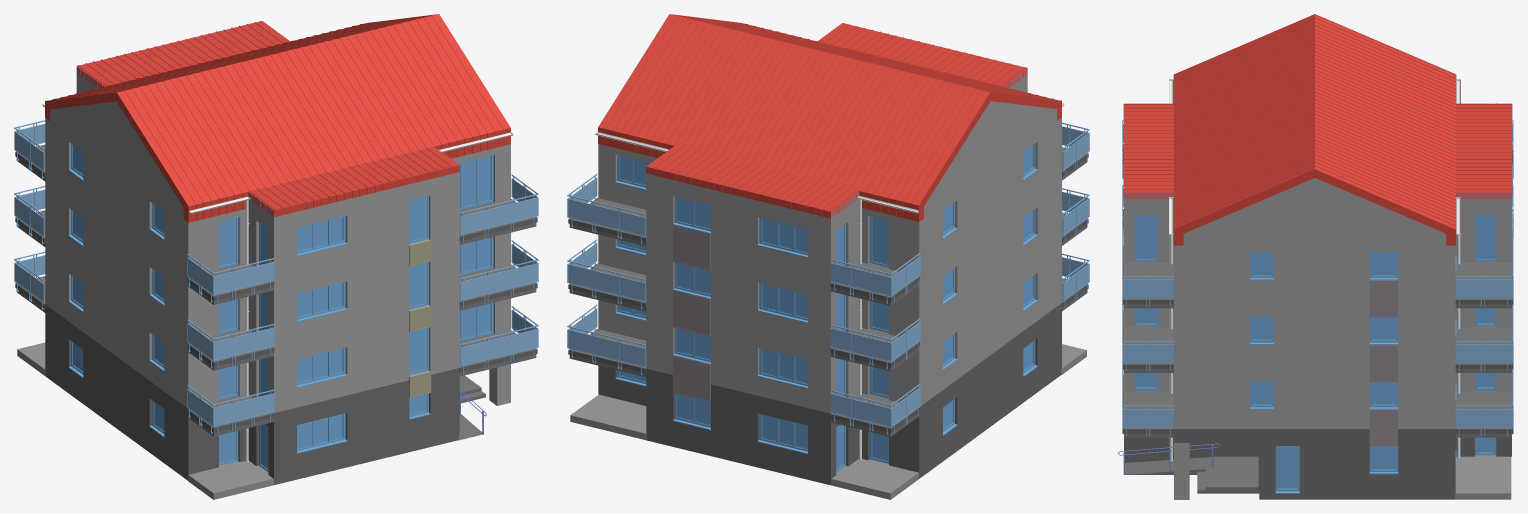
File: building_sample.glb
3 views of the same model, side by side, from view 1: azimuth 30°, elevation 25°; view 2: azimuth 150°, elevation 25°; view 3: azimuth 270°, elevation 25° (orthographic).
Parts seen in each view (by area): view 1: building_walls, roof, foundation_wall, window.005, barrels, balcony, metal_cover, terrace, boards, eneter_floor, gutters.002, gutters.003; view 2: building_walls, roof, foundation_wall, window.005, barrels, balcony, terrace, boards.001, metal_cover, gutters.003; view 3: building_walls, roof, foundation_wall, window.005, barrels, balcony, boards.001, eneter_floor, terrace, metal_cover, roof_plate, gutters.002 (+1 smaller).
Boxes of the visible parts, x1,y1,x2,y2 form: building_walls: (45, 73, 510, 412); roof: (45, 14, 510, 222); foundation_wall: (45, 305, 459, 484); window.005: (68, 144, 493, 471); barrels: (14, 120, 538, 434); balcony: (16, 145, 536, 436); metal_cover: (15, 144, 537, 432); terrace: (17, 342, 273, 499); boards: (409, 240, 431, 397); eneter_floor: (459, 375, 485, 440); gutters.002: (245, 200, 249, 462); gutters.003: (42, 103, 513, 214); building_walls: (598, 75, 1061, 413); roof: (598, 14, 1061, 221); foundation_wall: (598, 303, 1061, 485); window.005: (615, 144, 1037, 472); barrels: (567, 122, 1089, 434); balcony: (569, 147, 1086, 436); terrace: (570, 344, 1086, 499); boards.001: (673, 225, 710, 401); metal_cover: (568, 147, 1088, 432); gutters.003: (595, 103, 1064, 213); building_walls: (1124, 178, 1511, 499); roof: (1123, 14, 1512, 245); foundation_wall: (1124, 429, 1511, 499); window.005: (1123, 164, 1512, 493); barrels: (1122, 120, 1513, 436); balcony: (1124, 261, 1511, 437); boards.001: (1369, 230, 1512, 446); eneter_floor: (1125, 456, 1258, 493); terrace: (1455, 455, 1511, 499); metal_cover: (1123, 144, 1512, 433); roof_plate: (1124, 103, 1511, 199); gutters.002: (1169, 235, 1460, 461).
Bounding box in the file's own units: 15.55 × 15.37 × 16.63.
